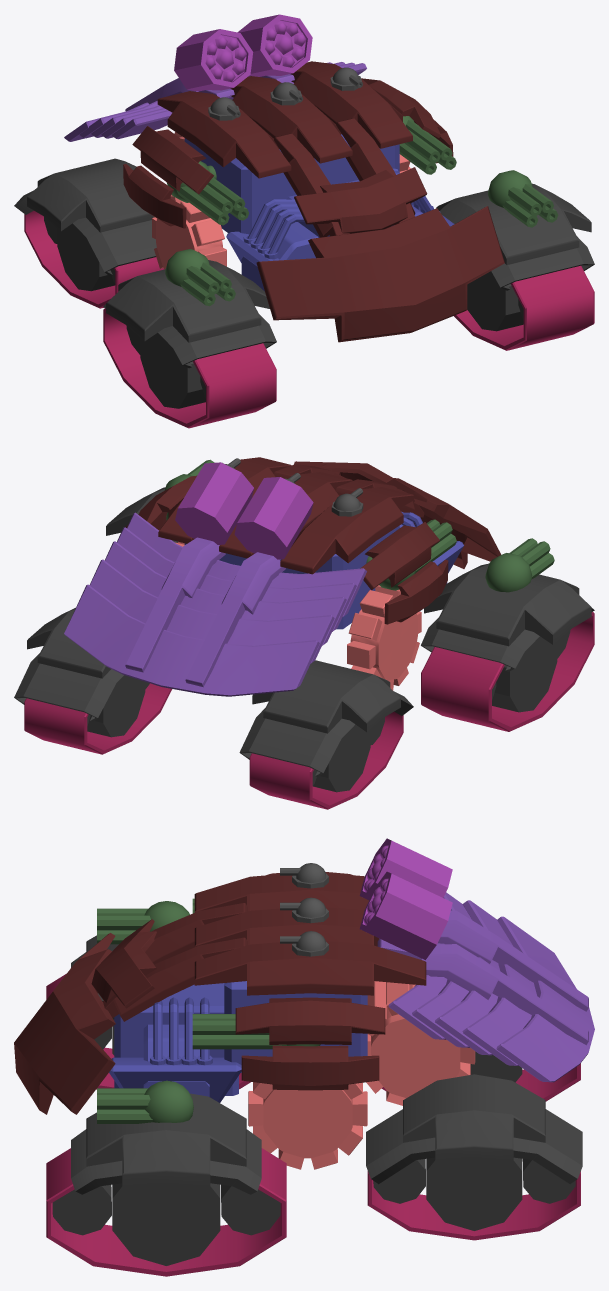
File: Boss 01.fbx
3 views of the same model, one above another, from view 1: azimuth 30°, elevation 25°; view 2: azimuth 150°, elevation 25°; view 3: azimuth 270°, elevation 25° (orthographic). The views are drawn at different scales.
Visible parts, largest first — view 1: Boss_FrontShield, Boss_Tires_02, Boss_Tires_01, Boss_Tires_04, Boss_Engine, Boss_Rockets_02, Boss_Rockets_01, Boss_BackShhield, Boss_Gears_02, Boss_RailGun_04, Boss_RailGun_01, Boss_RailGun_03 (+4 smaller); view 2: Boss_BackShhield, Boss_Tires_02, Boss_FrontShield, Boss_Tires_04, Boss_Tires_03, Boss_Gears_02, Boss_Rockets_02, Boss_Rockets_01, Boss_RailGun_04, Boss_Engine, Boss_RailGun_03, Boss_Tires_01 (+1 smaller); view 3: Boss_FrontShield, Boss_Tires_01, Boss_Tires_03, Boss_BackShhield, Boss_Engine, Boss_Gears_03, Boss_Gears_01, Boss_Rockets_01, Boss_RailGun_01, Boss_Rockets_02, Boss_RailGun_02, Boss_RailGun_04 (+5 smaller).
Boxes of the visible parts, x1,y1,x2,y2 form: Boss_FrontShield: (123,61,504,342); Boss_Tires_02: (103,260,276,428); Boss_Tires_01: (436,183,594,350); Boss_Tires_04: (14,158,164,308); Boss_Engine: (184,134,454,291); Boss_Rockets_02: (174,29,253,91); Boss_Rockets_01: (237,14,312,76); Boss_BackShhield: (64,62,366,141); Boss_Gears_02: (152,195,226,269); Boss_RailGun_04: (165,249,235,306); Boss_RailGun_01: (488,170,558,227); Boss_RailGun_03: (166,161,248,225); Boss_BackShhield: (64,512,366,696); Boss_Tires_02: (421,563,594,731); Boss_FrontShield: (125,457,501,624); Boss_Tires_04: (239,660,413,809); Boss_Tires_03: (14,607,172,754); Boss_Gears_02: (347,585,421,690); Boss_Rockets_02: (234,477,313,559); Boss_Rockets_01: (175,462,253,544); Boss_RailGun_04: (485,538,554,592); Boss_Engine: (184,511,464,629); Boss_RailGun_03: (366,519,456,590); Boss_Tires_01: (106,487,177,542); Boss_FrontShield: (14,872,426,1114); Boss_Tires_01: (46,1093,286,1276); Boss_Tires_03: (366,1074,582,1240); Boss_BackShhield: (377,892,594,1082); Boss_Engine: (109,981,367,1102); Boss_Gears_03: (248,1082,367,1169); Boss_Gears_01: (366,981,475,1105); Boss_Rockets_01: (359,871,452,959); Boss_RailGun_01: (97,1080,193,1123); Boss_Rockets_02: (359,838,452,900); Boss_RailGun_02: (192,1014,320,1049); Boss_RailGun_04: (97,901,189,944).
Bounding box in the file's own units: 59.48 × 58.66 × 34.77.
